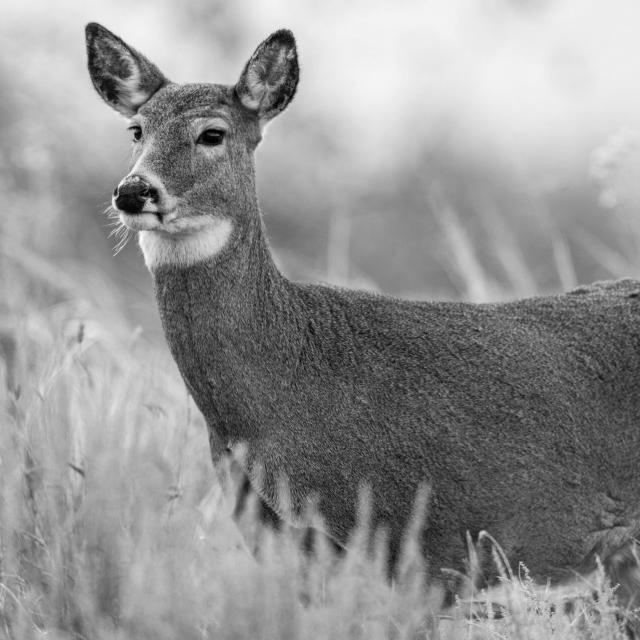Deer: (84, 22, 636, 586)
